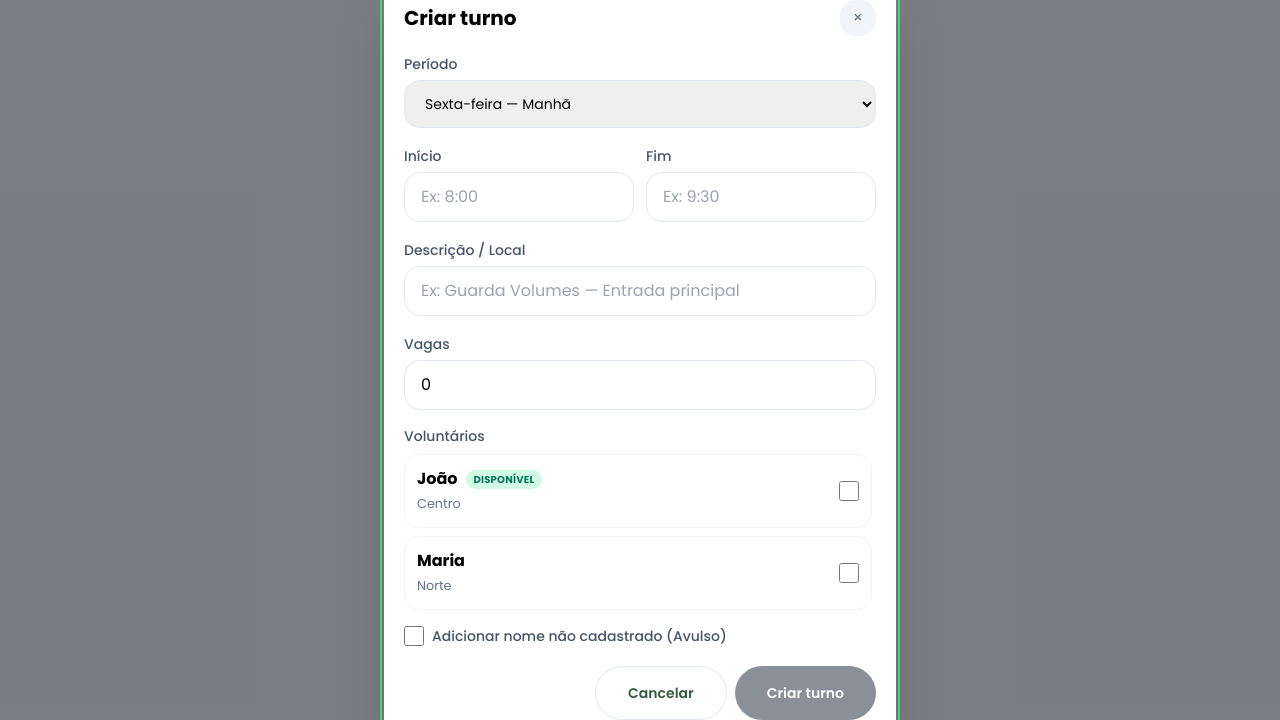
Test: ShiftEditorModal › shows manual name input and hides volunteer list when checkbox is toggled
Click the text "Adicionar nome não cadastrado (Avulso)": (579, 636) [432,626,727,646]
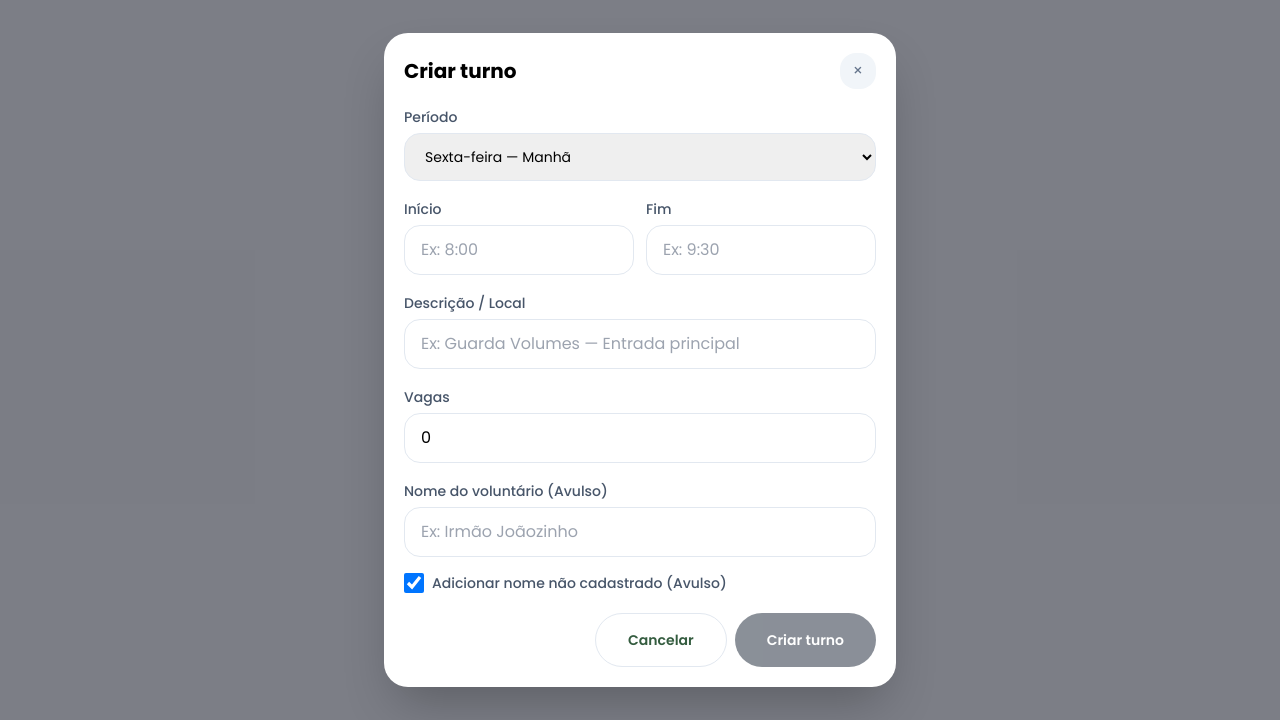
expect the field with placeholder "Ex: Irmão Joãozinho" is shown: met, box [404,507,876,557]
